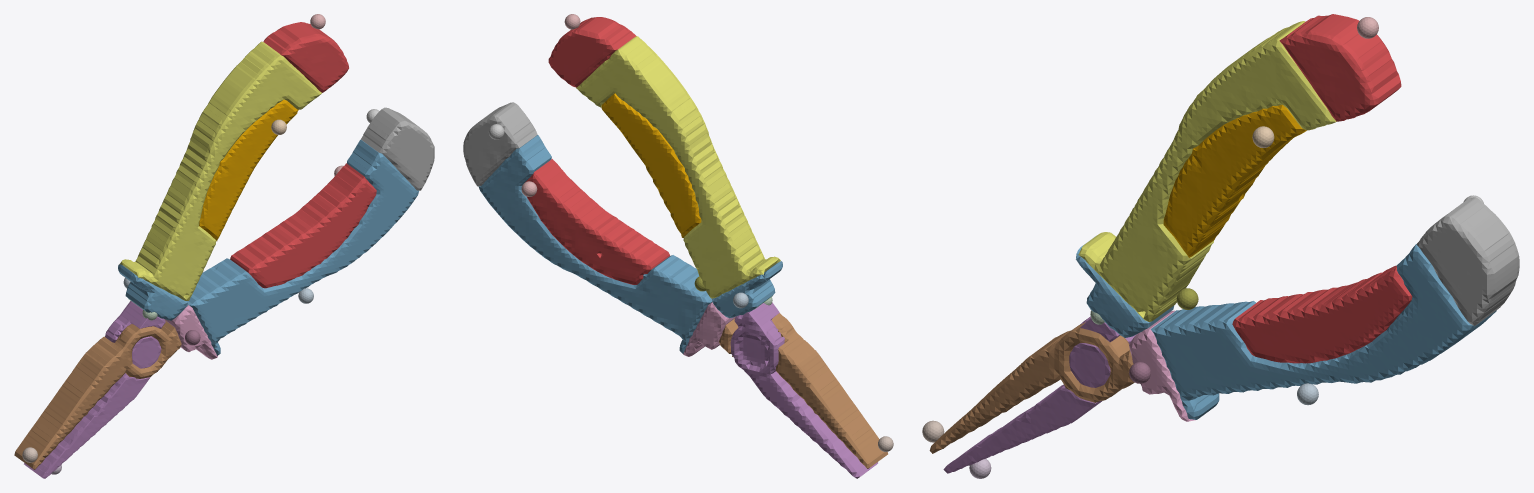
File: ours.glb
The picture shows the model from 3 angles, left to right: view 1: azimuth 30°, elevation 25°; view 2: azimuth 150°, elevation 25°; view 3: azimuth 330°, elevation 25°; orthographic projection. The views are drawn at different scales.
Visible parts, largest first — view 1: g5, g10, g9, g6, g3, g4, g0, g8, g1, g7; view 2: g5, g10, g9, g6, g3, g4, g0, g8, g1, g7; view 3: g10, g5, g9, g4, g0, g8, g6, g3, g7, g1.
Boxes of the visible parts, box(x1,y1,x2,y2) form: g5: box(119, 41, 321, 300); g10: box(187, 139, 418, 355); g9: box(230, 163, 376, 288); g6: box(14, 321, 181, 469); g3: box(24, 301, 165, 478); g4: box(199, 99, 298, 240); g0: box(263, 14, 348, 92); g8: box(361, 107, 434, 190); g1: box(118, 264, 187, 320); g7: box(164, 305, 218, 359); g5: box(576, 36, 780, 298); g10: box(478, 135, 712, 353); g9: box(521, 159, 669, 284); g6: box(719, 313, 893, 468); g3: box(730, 302, 877, 478); g4: box(601, 93, 701, 237); g0: box(548, 14, 636, 87); g8: box(463, 102, 537, 186); g1: box(712, 261, 782, 318); g7: box(682, 302, 735, 356); g10: box(1150, 244, 1496, 419); g5: box(1078, 21, 1336, 322); g9: box(1232, 265, 1412, 363); g4: box(1163, 104, 1306, 257); g0: box(1279, 14, 1401, 121); g8: box(1416, 195, 1519, 325); g6: box(922, 322, 1134, 453); g3: box(943, 316, 1136, 478); g7: box(1129, 310, 1195, 421); g1: box(1076, 236, 1174, 337).
Size of the model in its own units: 1.93 by 1.75 by 0.2974.
